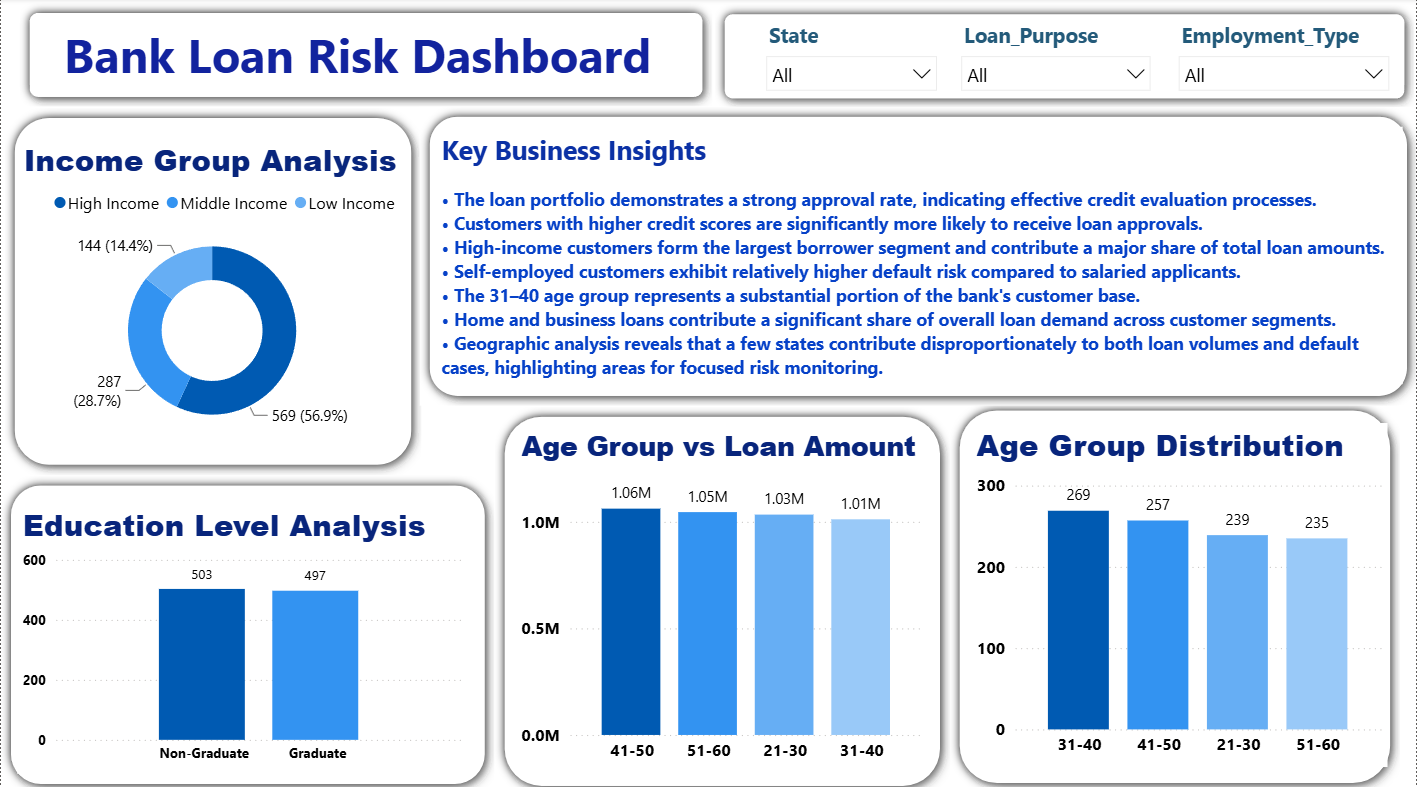

The dashboard page shown, as its layout file describes it:
{"tool":"powerbi","page":{"name":"Customer Segmentation","canvas":[1280,720],"ordinal":3},"visuals":[{"type":"group","id":"g1","title":"Group 1","box":[17.2,4.8,625.7,94.3],"z":0},{"type":"shape","box":[17.2,4.8,626.6,94],"z":0,"group":"g1"},{"type":"shape","box":[645.9,6.1,632.9,94.3],"z":0,"group":"g2"},{"type":"shape","box":[378.3,98.9,902,270.6],"z":0,"group":"g7"},{"type":"shape","box":[3.2,99,376.8,331.7],"z":0,"group":"g4"},{"type":"shape","box":[858.4,364.5,407.4,355],"z":0,"group":"g3"},{"type":"shape","box":[446.6,369.5,411.7,352],"z":0,"group":"g6"},{"type":"shape","box":[0,432,446.6,288.1],"z":0,"group":"g5"},{"type":"group","id":"g2","title":"Group 1","box":[645.9,6.1,632.9,94.3],"z":1000},{"type":"donutChart","title":"Income Group Analysis","fields":{"Category":["Loan_data.Income Group"],"Y":["CountNonNull(Loan_data.Customer_ID)"]},"box":[16,126.6,350.6,279.3],"z":1000,"group":"g4"},{"type":"columnChart","title":"Age Group Distribution","fields":{"Category":["Loan_data.Age Group"],"Y":["CountNonNull(Loan_data.Customer_ID)"]},"box":[877.3,384.9,376.8,311.3],"z":1000,"group":"g3"},{"type":"clusteredColumnChart","title":"Age Group vs Loan Amount","fields":{"Category":["Loan_data.Age Group"],"Y":["Loan_data.AVG Loan Amount"]},"box":[465.7,387.8,373.5,313],"z":1000,"group":"g6"},{"type":"clusteredColumnChart","title":"Education Level Analysis","fields":{"Y":["CountNonNull(Loan_data.Customer_ID)"],"Category":["Loan_data.Education"]},"box":[14.5,456.7,410.3,244.4],"z":1000,"group":"g5"},{"type":"slicer","fields":{"Values":["Loan_data.State"]},"box":[681.7,15.8,174.7,68.7],"z":2000},{"type":"slicer","fields":{"Values":["Loan_data.Loan_Purpose"]},"box":[857.8,15.8,191.9,68.7],"z":3000},{"type":"slicer","fields":{"Values":["Loan_data.Employment_Type"]},"box":[1055.5,15.8,210.5,68.7],"z":4000},{"type":"group","id":"g3","title":"Group 1","box":[858.4,364.5,407.4,355],"z":5000},{"type":"group","id":"g4","title":"Group 1","box":[3.2,99,376.8,331.7],"z":6000},{"type":"group","id":"g5","title":"Group 1","box":[0,432,446.6,288.1],"z":7000},{"type":"group","id":"g6","title":"Group 1","box":[446.6,369.5,411.7,347.7],"z":8000},{"type":"textbox","box":[392.5,116.5,874.4,232.8],"z":8002,"group":"g7"},{"type":"group","id":"g7","title":"Group 1","box":[378.3,98.9,902,270.6],"z":9000},{"type":"textbox","box":[52.1,17.6,573.9,68.4],"z":9003,"group":"g1"}]}

Visuals, with their boxes in screenshot pixels (x1, y1, x2, y2), scaled from the page's 1280x720 canvas onto the 1417x787 screenshot:
"Group 1" group: {"x1": 19, "y1": 5, "x2": 712, "y2": 108}
shape: {"x1": 19, "y1": 5, "x2": 713, "y2": 108}
shape: {"x1": 715, "y1": 7, "x2": 1416, "y2": 110}
shape: {"x1": 419, "y1": 108, "x2": 1416, "y2": 404}
shape: {"x1": 4, "y1": 108, "x2": 421, "y2": 471}
shape: {"x1": 950, "y1": 398, "x2": 1401, "y2": 786}
shape: {"x1": 494, "y1": 404, "x2": 950, "y2": 786}
shape: {"x1": 0, "y1": 472, "x2": 494, "y2": 786}
"Group 1" group: {"x1": 715, "y1": 7, "x2": 1416, "y2": 110}
"Income Group Analysis" donutChart: {"x1": 18, "y1": 138, "x2": 406, "y2": 444}
"Age Group Distribution" columnChart: {"x1": 971, "y1": 421, "x2": 1388, "y2": 761}
"Age Group vs Loan Amount" clusteredColumnChart: {"x1": 516, "y1": 424, "x2": 929, "y2": 766}
"Education Level Analysis" clusteredColumnChart: {"x1": 16, "y1": 499, "x2": 470, "y2": 766}
slicer - Loan_data.State: {"x1": 755, "y1": 17, "x2": 948, "y2": 92}
slicer - Loan_data.Loan_Purpose: {"x1": 950, "y1": 17, "x2": 1162, "y2": 92}
slicer - Loan_data.Employment_Type: {"x1": 1168, "y1": 17, "x2": 1402, "y2": 92}
"Group 1" group: {"x1": 950, "y1": 398, "x2": 1401, "y2": 786}
"Group 1" group: {"x1": 4, "y1": 108, "x2": 421, "y2": 471}
"Group 1" group: {"x1": 0, "y1": 472, "x2": 494, "y2": 786}
"Group 1" group: {"x1": 494, "y1": 404, "x2": 950, "y2": 784}
textbox: {"x1": 435, "y1": 127, "x2": 1402, "y2": 382}
"Group 1" group: {"x1": 419, "y1": 108, "x2": 1416, "y2": 404}
textbox: {"x1": 58, "y1": 19, "x2": 693, "y2": 94}
